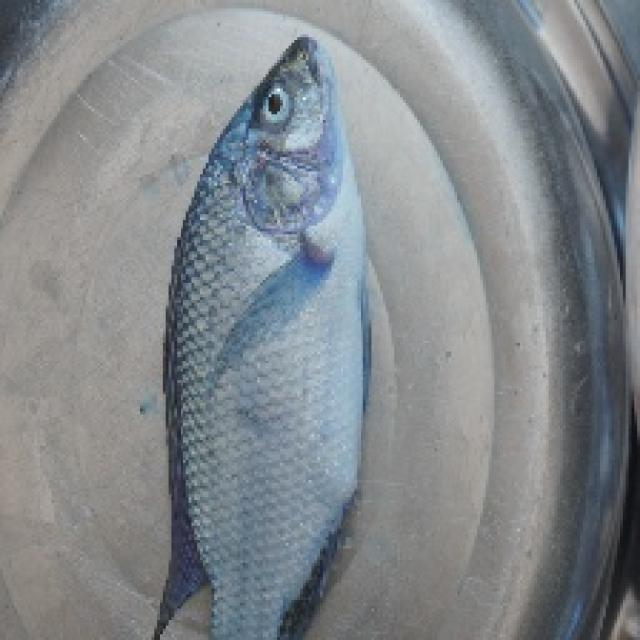Fresh: (154, 25, 433, 542)
